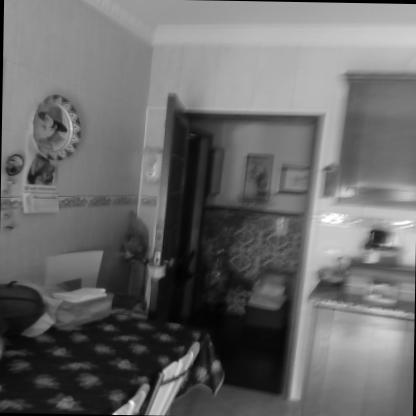open: (144, 89, 328, 402)
